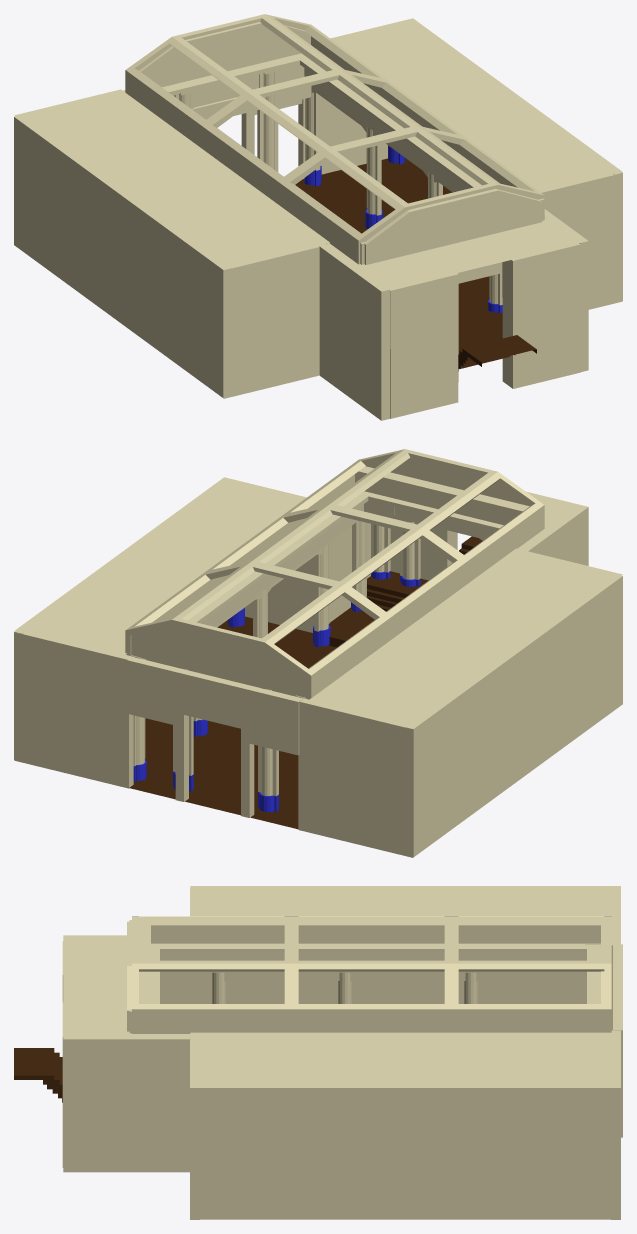
The model's file is HortaHall.fbx.
3 views of the same model, one above another, from view 1: azimuth 30°, elevation 25°; view 2: azimuth 150°, elevation 25°; view 3: azimuth 270°, elevation 25° (orthographic). The views are drawn at different scales.
Parts seen in each view (by area): view 1: Cube.017, Cube.013, Plane.004, Cube.066, Plane.003, Cube.076, Cube.039, Cube.041, Cube.081, Plane.005, Plane.002, Cube.012 (+11 smaller); view 2: Cube.067, Cube.017, Cube.013, Plane.004, Plane.003, Plane.002, Cube.071, Cube.012, Cube.076, Cube.050, Cube.066, Cube.081 (+19 smaller); view 3: Cube.017, Cube.013, Plane.003, Cube.076, Plane.004, Plane.005, Cube.010, Cube.053, Cube.008, Cube.080, Cube.071, Cube.050 (+6 smaller).
Boxes of the visible parts, x1,y1,x2,y2 form: Cube.017: (14,116,622,398); Cube.013: (125,14,544,264); Plane.004: (14,89,329,268); Cube.066: (224,173,622,398); Plane.003: (330,18,621,191); Cube.076: (319,209,588,420); Cube.039: (502,243,581,388); Cube.041: (390,273,458,418); Cube.081: (364,188,542,264); Plane.005: (348,216,587,291); Plane.002: (295,158,489,318); Cube.012: (139,22,310,87); Cube.067: (14,632,412,857); Cube.017: (14,575,622,857); Cube.013: (125,449,544,699); Plane.004: (307,548,622,727); Plane.003: (15,477,306,656); Plane.002: (129,616,336,829); Cube.071: (127,656,303,742); Cube.012: (131,624,305,697); Cube.076: (329,507,588,622); Cube.050: (355,466,529,525); Cube.066: (245,542,329,632); Cube.081: (366,457,529,506); Cube.017: (190,972,620,1219); Cube.013: (132,916,611,1033); Plane.003: (190,1031,620,1085); Cube.076: (63,972,190,1172); Plane.004: (190,886,620,939); Plane.005: (63,935,131,1039); Cube.010: (151,943,600,971); Cube.053: (151,944,600,953); Cube.008: (224,972,586,981); Cube.080: (14,1048,54,1079); Cube.071: (613,944,622,1071); Cube.050: (129,920,150,1033).
Bounding box in the file's own units: 9.52 × 12.23 × 3.98.
